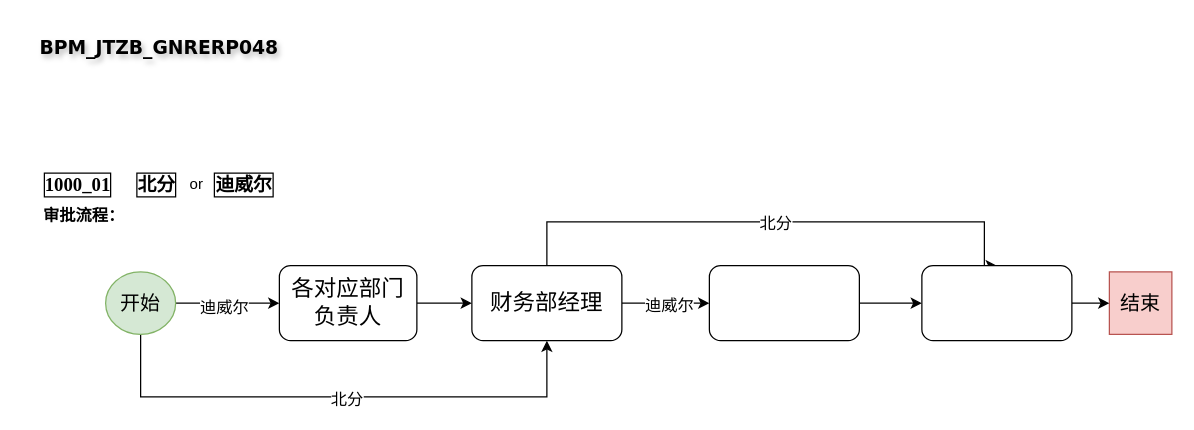
Image size: 1194x430. Some labels were removed from this diagram. Here are the shapes that lost their labels. From the top down, the centre of each, then its label:
At pixel 783 302: "总经理助理".
At pixel 996 302: "分公司领导".
